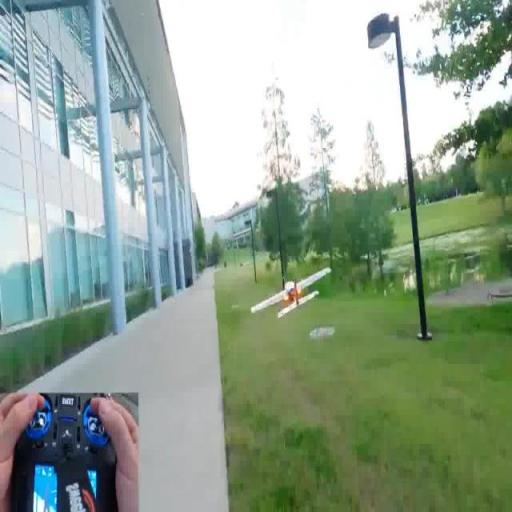uav: (248, 264, 334, 330)
